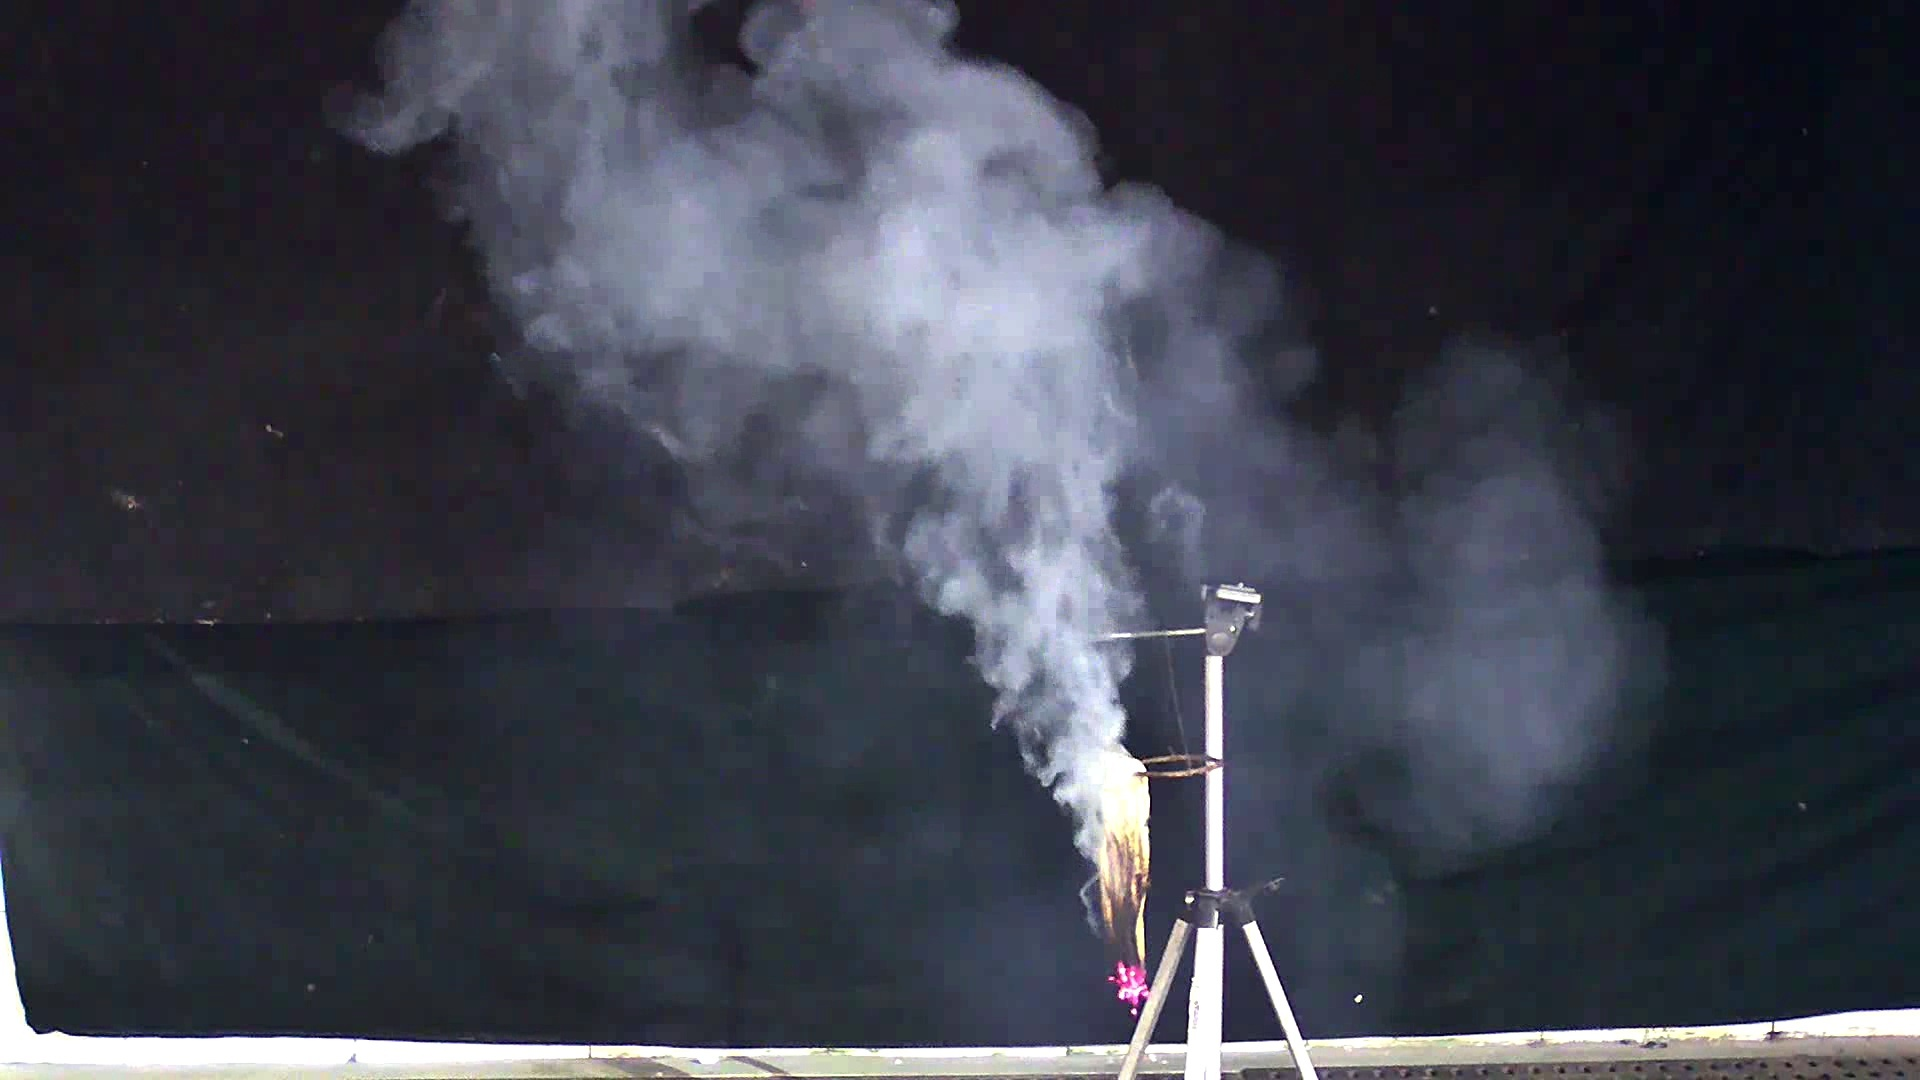smoke: (349, 16, 1640, 861)
